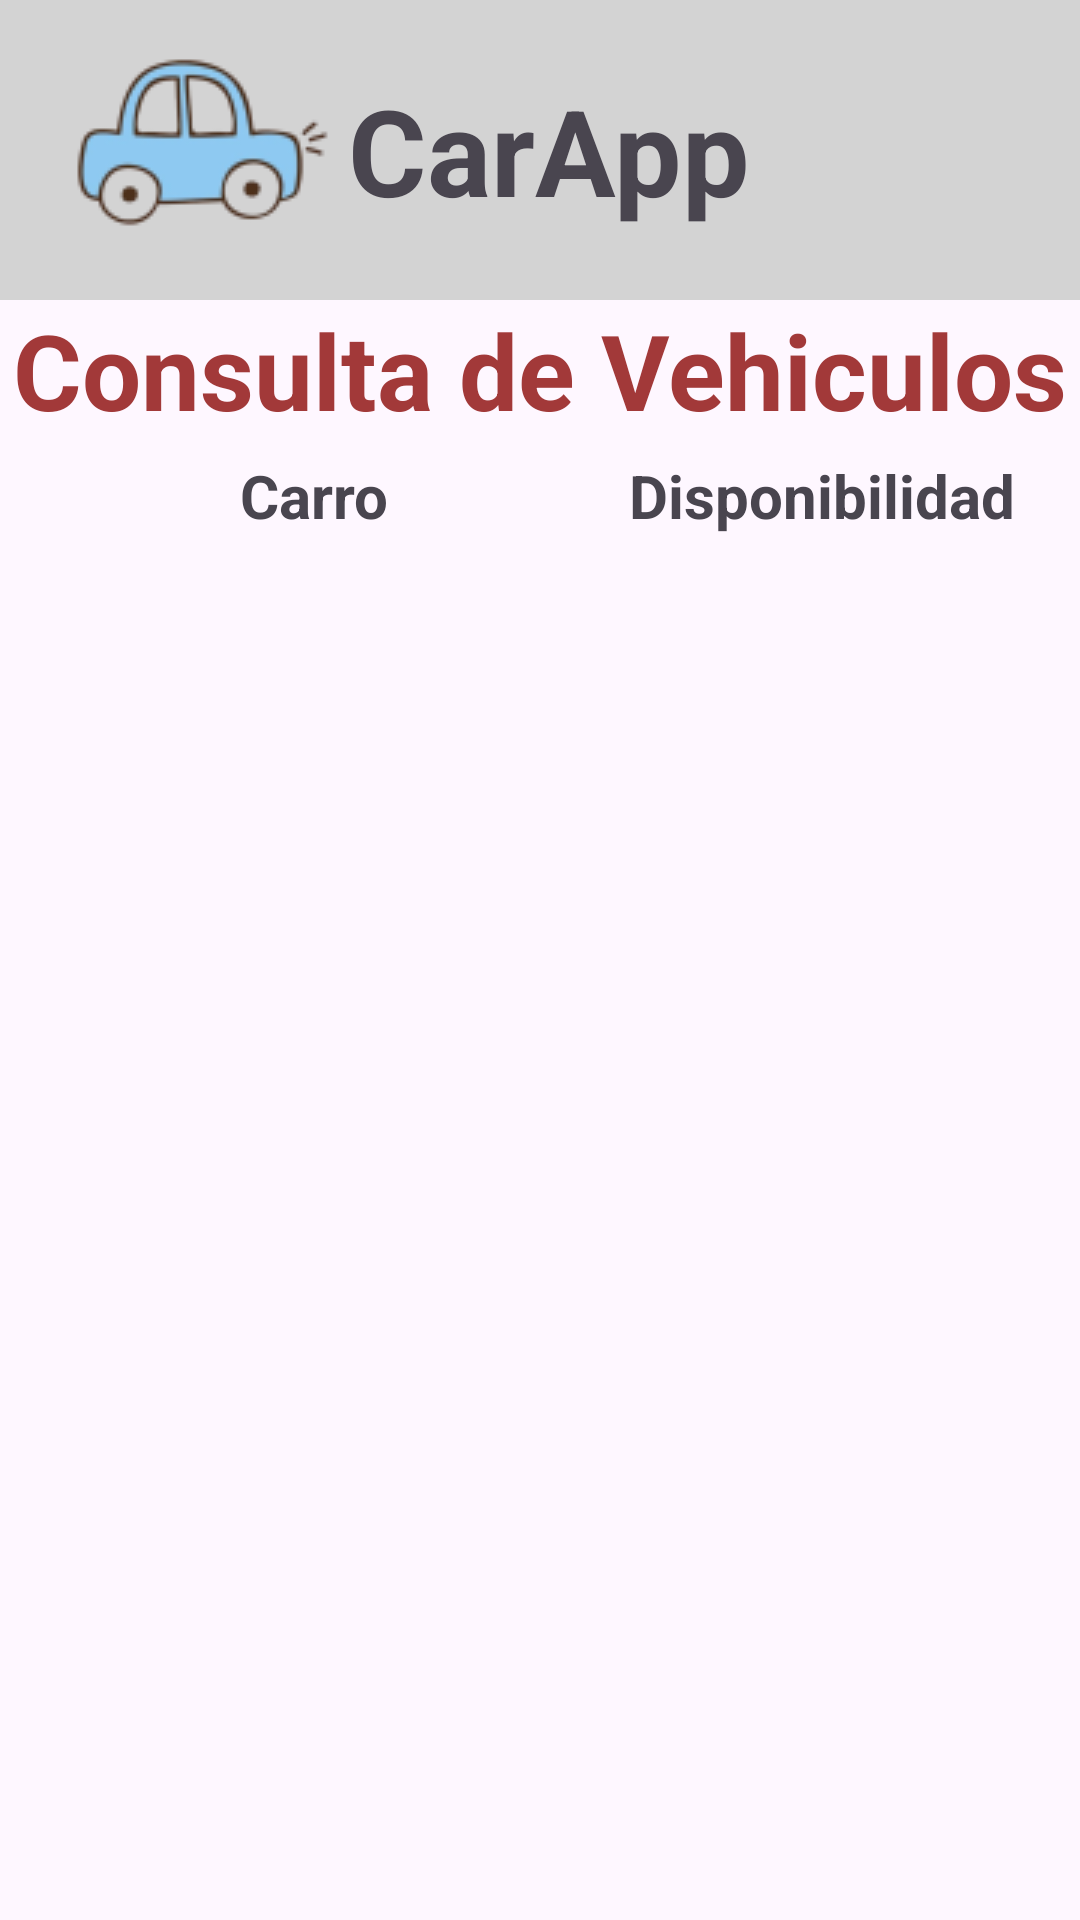

Screen size 1080w x 1920h. Icon name, then its box in pixels as (x1, y1, x2, y2):
carrito: (77, 59, 327, 226)
